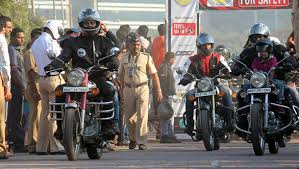helmet: (76, 6, 104, 33), (252, 37, 277, 61), (194, 30, 215, 56)
